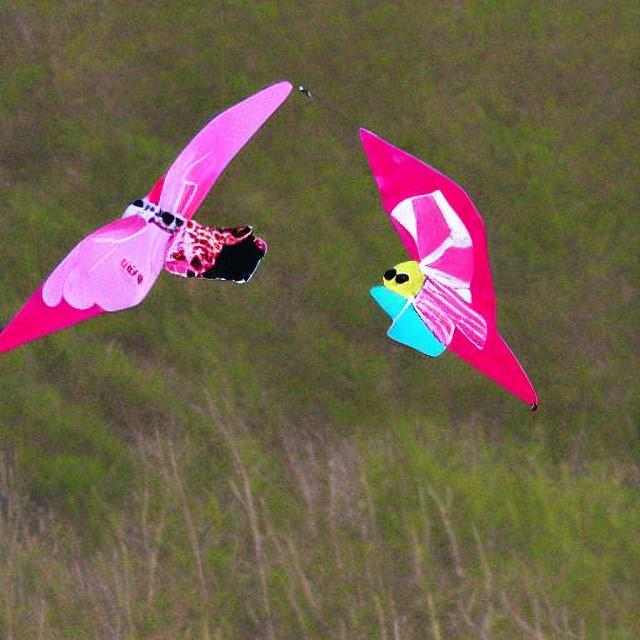floating object: (14, 81, 292, 352), (356, 126, 535, 410)
